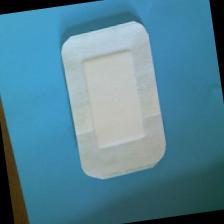Dressing: (56, 14, 174, 188)
